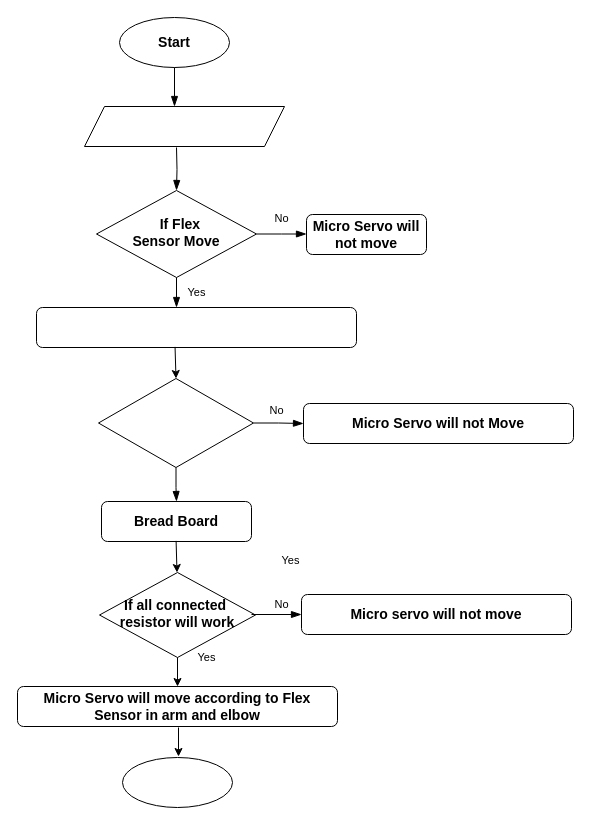
This 591x825 diagram has some shape labels left out. Here are the shapes that lost their labels. From the top down, the box of each, then its label:
(84, 106, 284, 146): Flex Sensor
(36, 306, 356, 348): will send signel to the Arduino (Micro-controller)
(98, 378, 254, 468): If all connection will work perfectly
(122, 756, 232, 808): End
